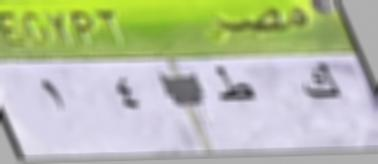1: (32, 70, 72, 118)
4: (110, 74, 144, 120)
Taa: (210, 60, 262, 112)
kaaf: (298, 60, 341, 111)
